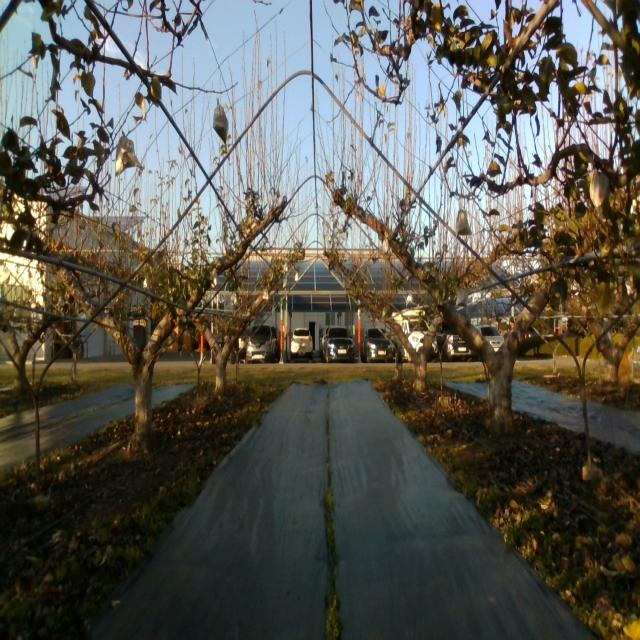pearbags: (115, 136, 143, 178), (589, 169, 609, 221), (213, 104, 229, 143), (456, 210, 472, 236), (456, 288, 468, 308)
